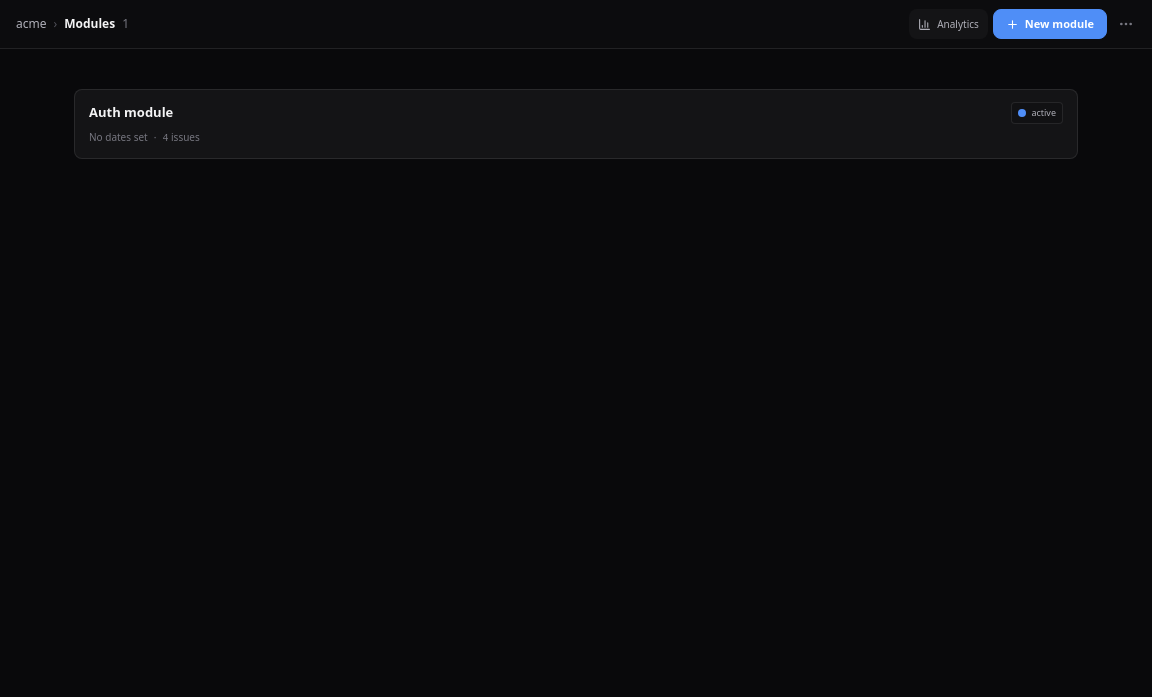
Test: module detail PQL mode (C95T2) › module detail PQL editor shows the corrected save hint (C108T1)
The image size is (1152, 697).
What coordinates should you click on to do the following:
click the button with aria-label "Open module Auth module"
I would click on:
 (131, 112)
Its box is [74,89,1078,159].
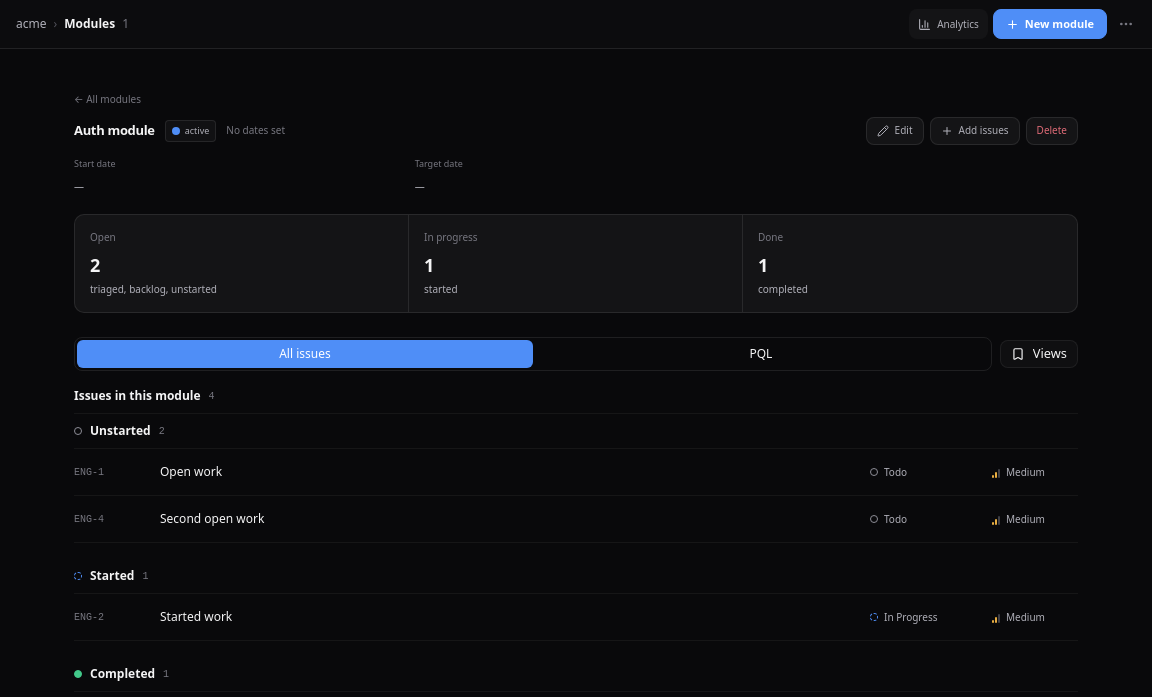
Expected: the heading "Issues in this module" is shown, [74,387,201,405]
Expected: the text "Open work" is shown, [160,463,222,480]
What coordinates should you click on to do the following:
click the button "PQL"
I would click on:
 (761, 354)
Its box is [533,340,989,368].
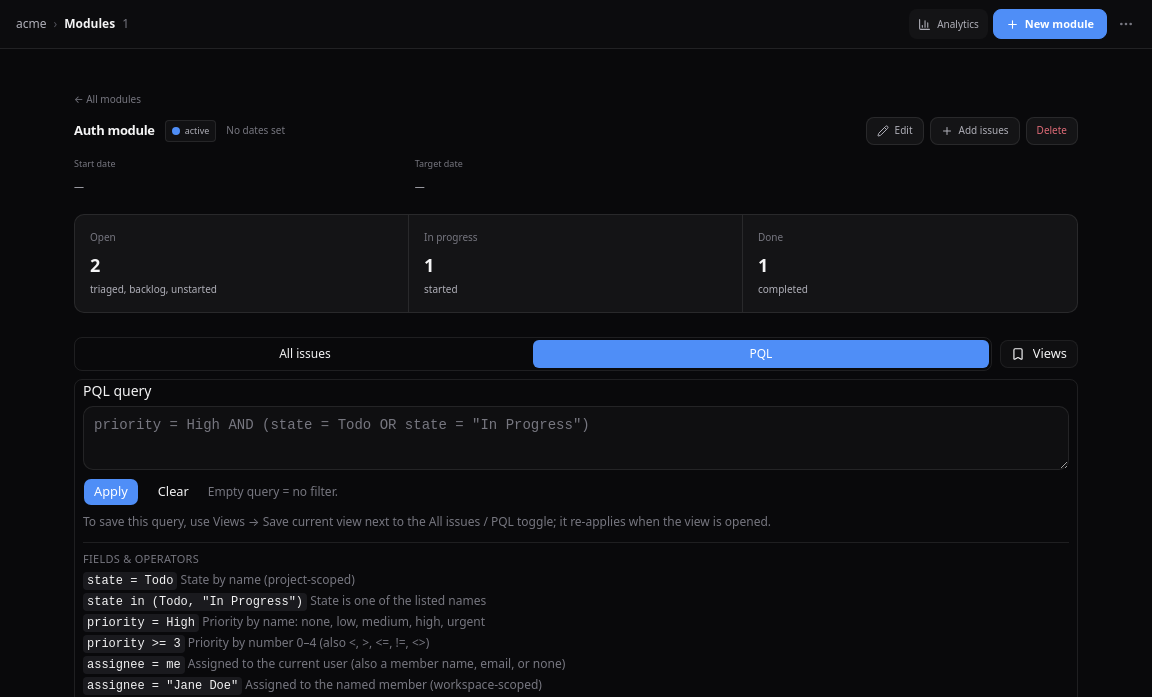
Expected: the text box labelled "PQL query" is shown, [83,406,1069,470]
Expected: the text "To save this query, use Views → Save current view next to the All issues / PQL toggle; it re-applies when the view is op" is shown, [83,513,771,530]
